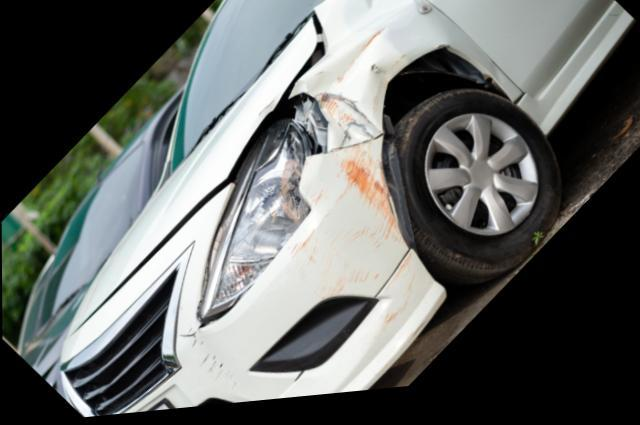dent: (298, 0, 413, 150)
dislocated part: (70, 13, 331, 333), (195, 98, 328, 330)
scratch: (287, 156, 403, 301), (382, 257, 422, 330), (182, 328, 219, 386)
